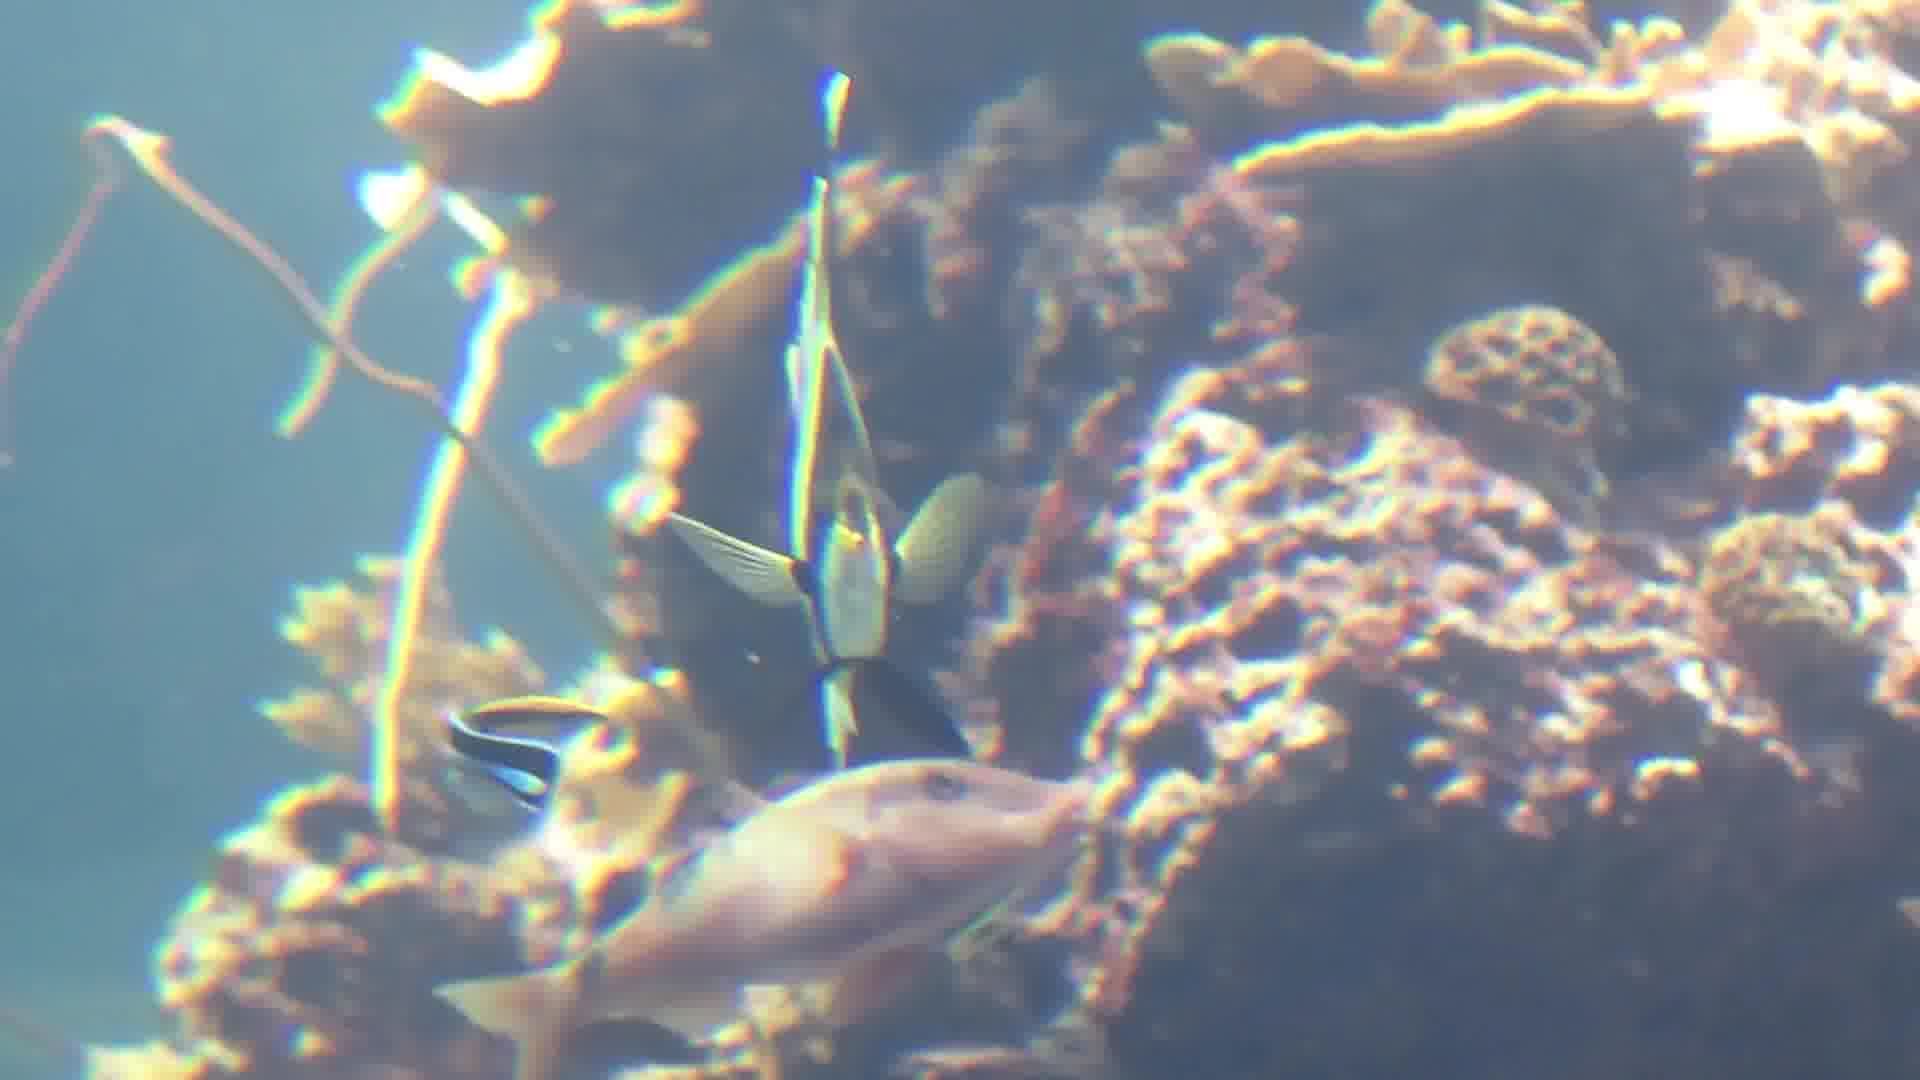Heniochus chrysostomus: (630, 83, 1051, 781)
